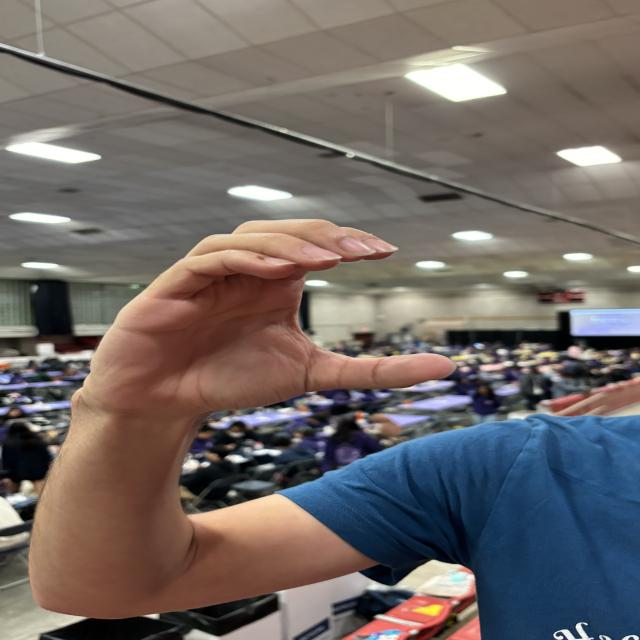C: (98, 212, 470, 398)
